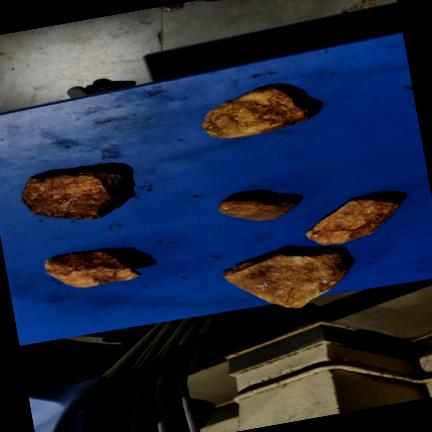Rocks: (222, 247, 345, 307), (21, 166, 132, 218), (202, 85, 308, 137), (305, 198, 398, 245), (44, 250, 139, 286), (217, 196, 296, 220)
